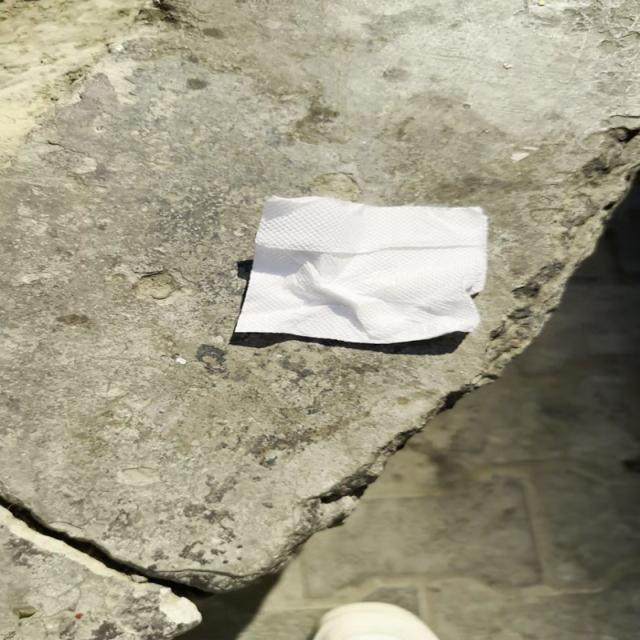tissue: (212, 195, 506, 348)
